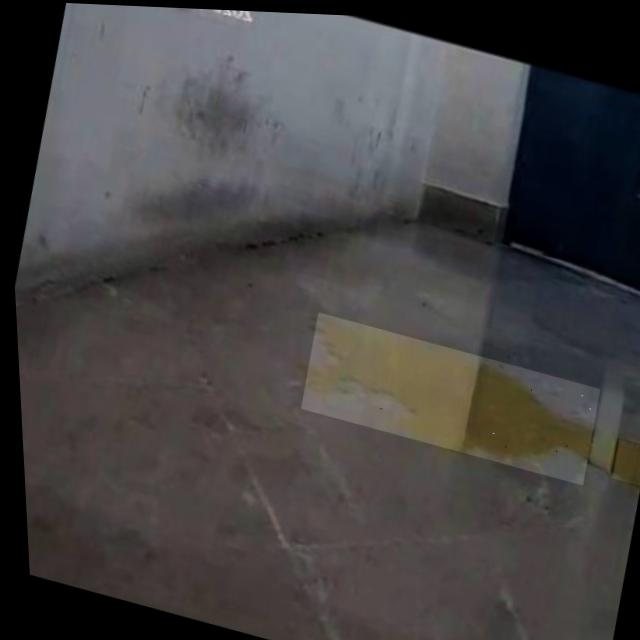spillage: (301, 323, 586, 451), (608, 434, 640, 478)
